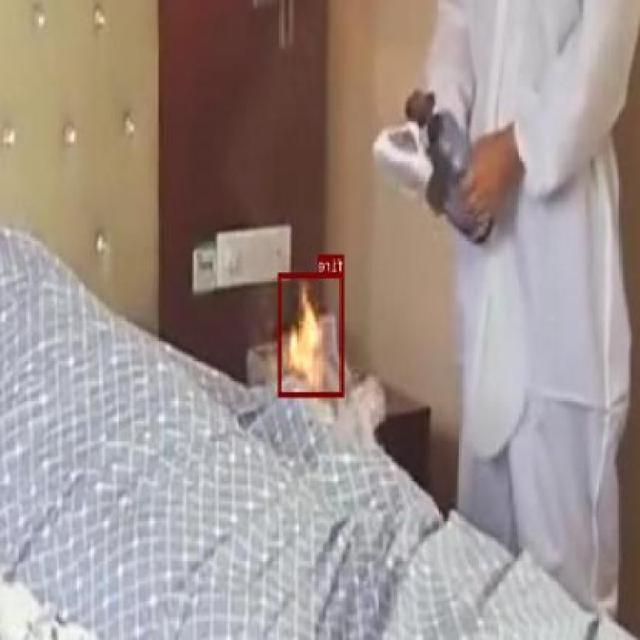fire: (278, 272, 344, 396)
